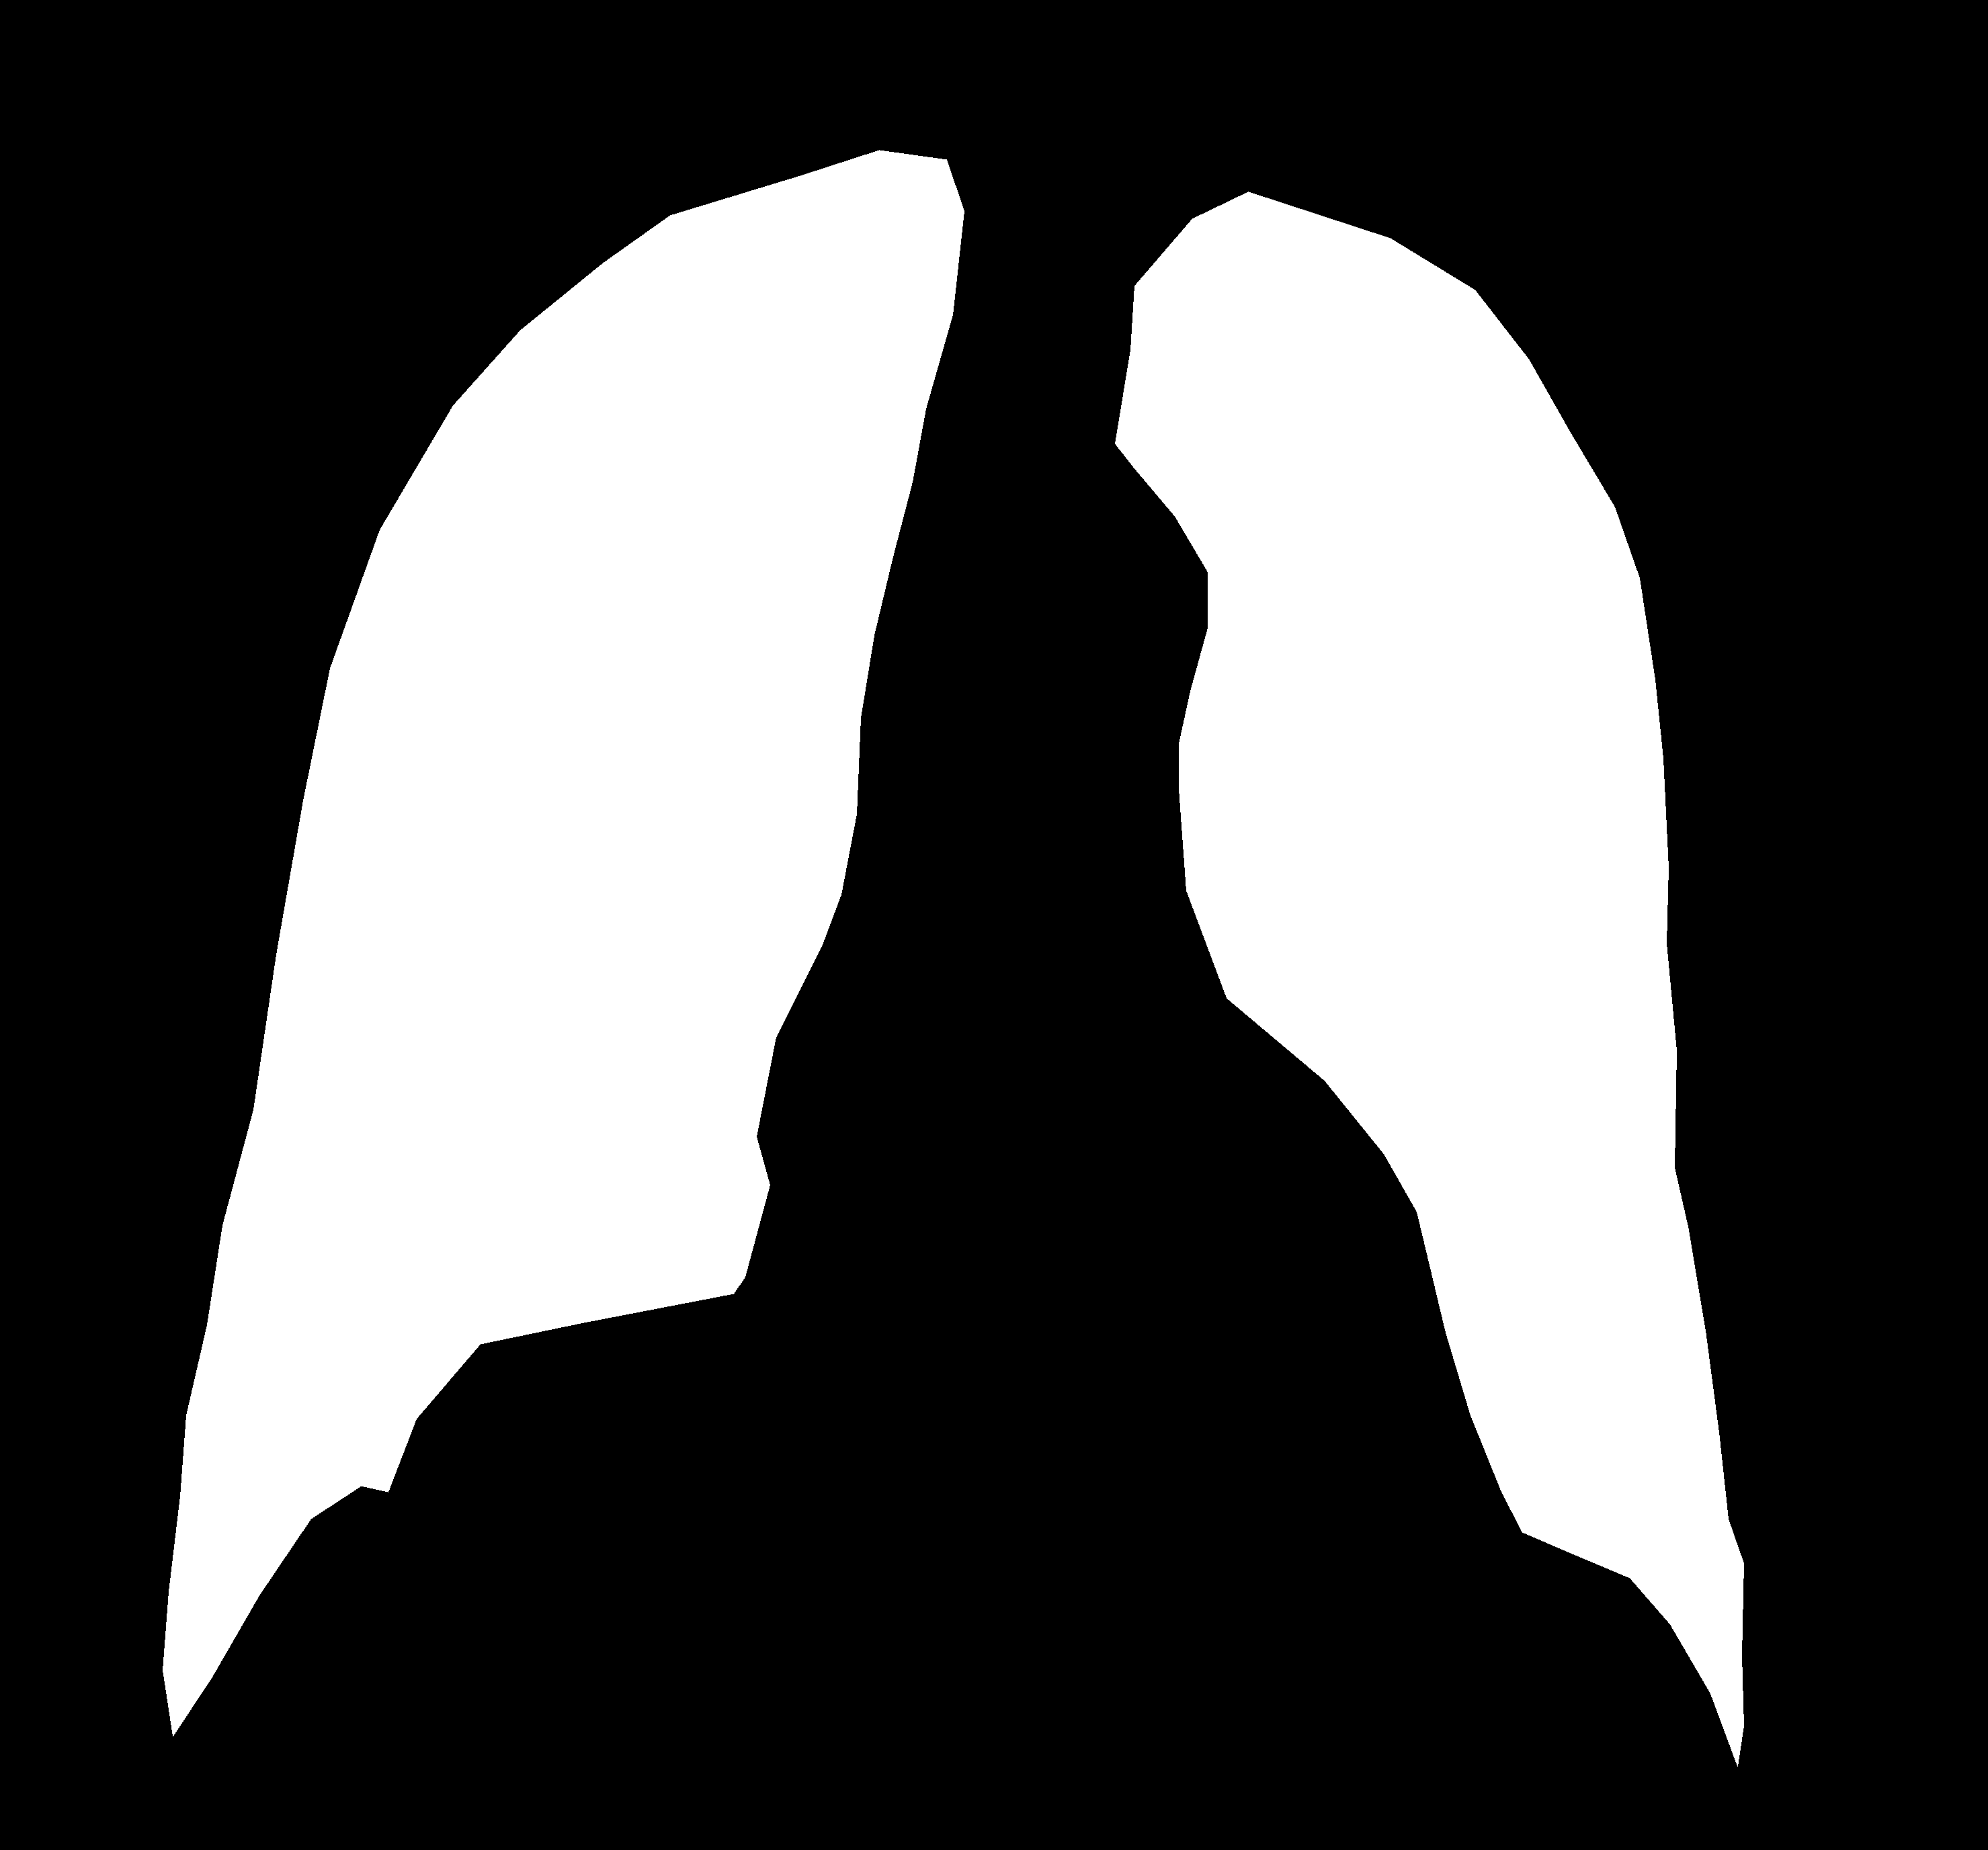heart: (734, 821, 1496, 1527)
left_lung: (163, 150, 964, 1735)
right_lung: (1115, 191, 1743, 1767)
